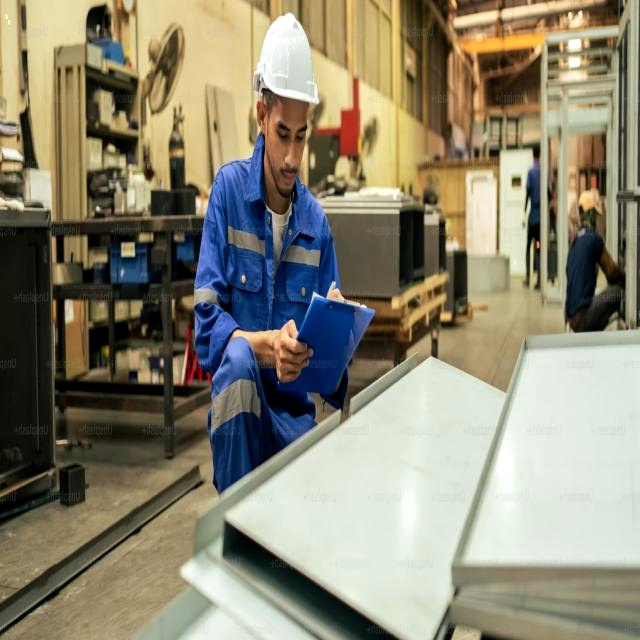Con_Casco: (253, 13, 319, 188)
